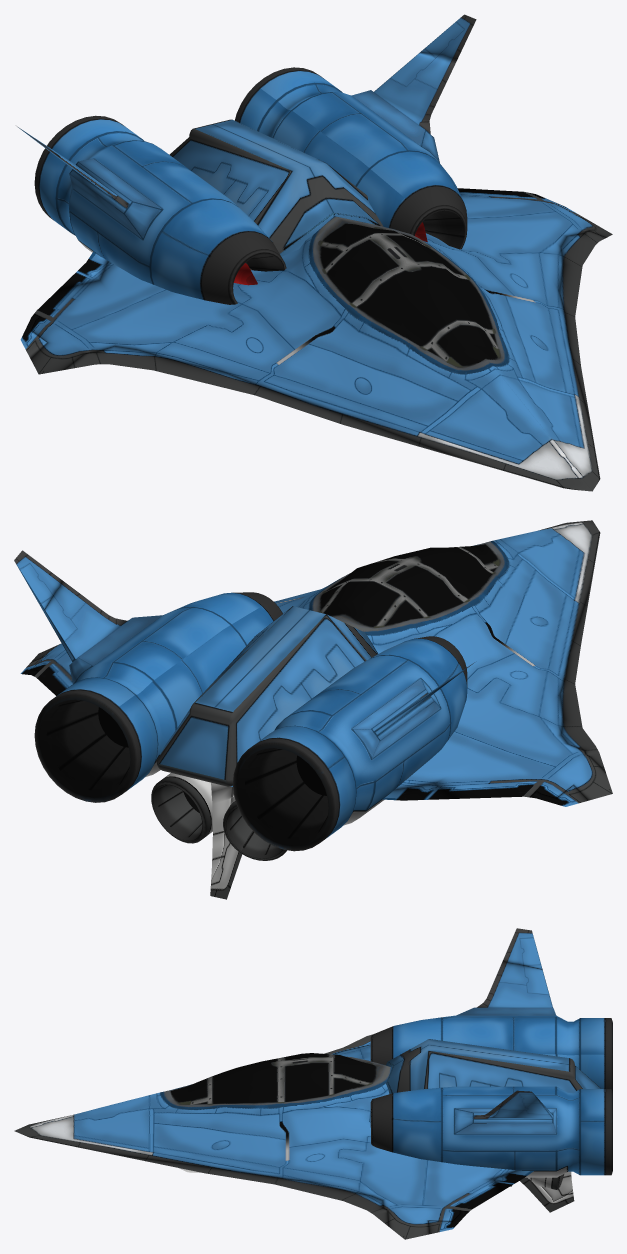
Rendered from spaceFighter.obj.
3 views of the same model, one above another, from view 1: azimuth 30°, elevation 25°; view 2: azimuth 150°, elevation 25°; view 3: azimuth 270°, elevation 25° (orthographic). The views are drawn at different scales.
Visible parts, largest first — view 1: airframe, exhaust_(hirez), intake; view 2: exhaust_(hirez), airframe, intake, Cylinder01, bottom_fin; view 3: airframe, exhaust_(hirez), intake, bottom_fin.
Part boxes in pixels (x1=…): airframe: x1=20, y1=188, x2=612, y2=491; exhaust_(hirez): x1=17, y1=14, x2=476, y2=304; intake: x1=169, y1=119, x2=383, y2=270; exhaust_(hirez): x1=14, y1=550, x2=474, y2=851; airframe: x1=20, y1=520, x2=612, y2=806; intake: x1=156, y1=606, x2=377, y2=786; Cylinder01: x1=151, y1=773, x2=286, y2=860; bottom_fin: x1=210, y1=782, x2=242, y2=899; airframe: x1=14, y1=1034, x2=533, y2=1239; exhaust_(hirez): x1=370, y1=928, x2=612, y2=1177; intake: x1=386, y1=1039, x2=600, y2=1094; bottom_fin: x1=520, y1=1171, x2=574, y2=1212.
Size of the model in its own units: 111 by 51.16 by 137.
Materials: 7 (6 with a texture image).
